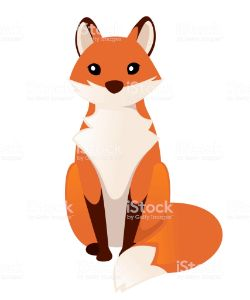fox: (61, 11, 222, 281)
